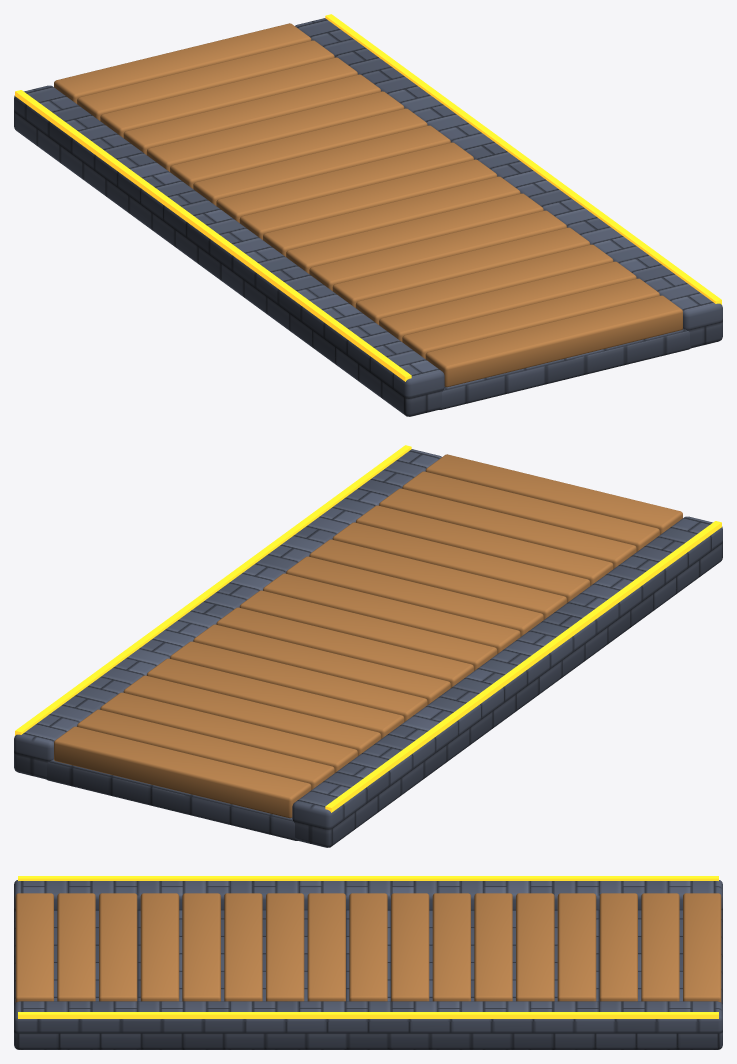
Rendered from Bridge.fbx.
3 views of the same model, one above another, from view 1: azimuth 30°, elevation 25°; view 2: azimuth 150°, elevation 25°; view 3: azimuth 270°, elevation 25° (orthographic). The views are drawn at different scales.
Parts seen in each view (by area): view 1: Bridge_Body; view 2: Bridge_Body; view 3: Bridge_Body.
Boxes of the visible parts, x1=… form: Bridge_Body: x1=14, y1=14, x2=722, y2=416; Bridge_Body: x1=14, y1=445, x2=722, y2=847; Bridge_Body: x1=14, y1=876, x2=722, y2=1049.
Size of the model in its own units: 4 by 0.5 by 8.6.
2 materials, 1 textured.
